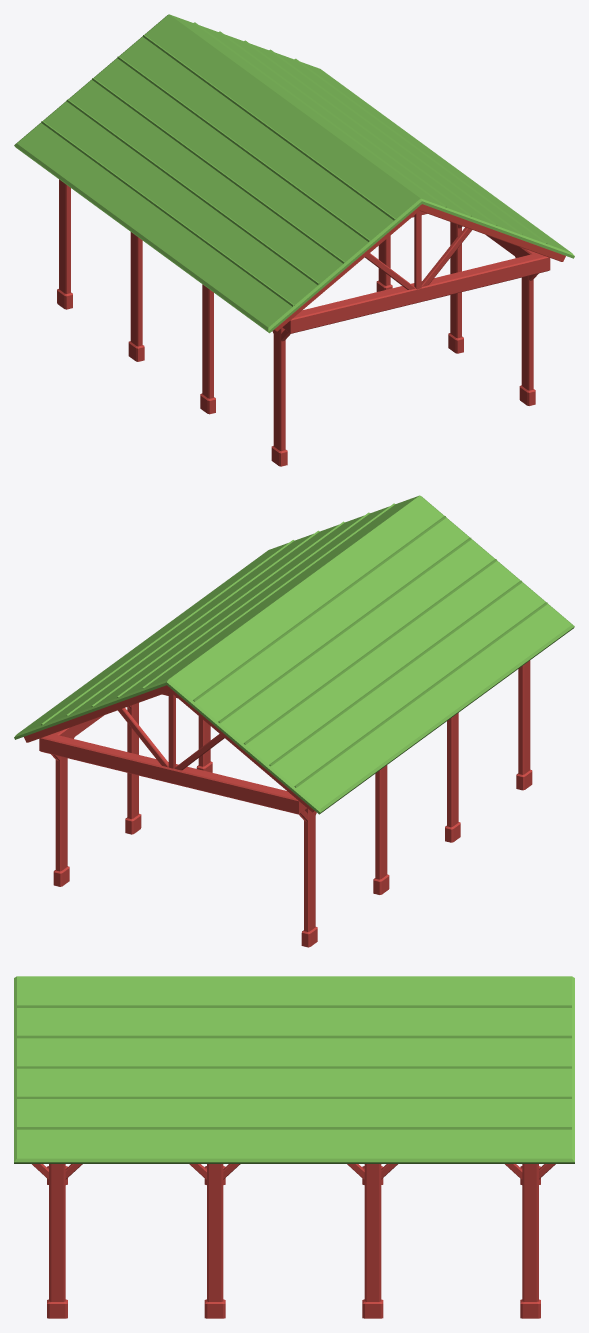
Rendered from structures_a03.gltf.
3 views of the same model, one above another, from view 1: azimuth 30°, elevation 25°; view 2: azimuth 150°, elevation 25°; view 3: azimuth 270°, elevation 25° (orthographic). The views are drawn at different scales.
Parts seen in each view (by area): view 1: structures_a03_001; view 2: structures_a03_001; view 3: structures_a03_001.
Part boxes in pixels (x1,y1,x2,y2): structures_a03_001: (14,14,574,466); structures_a03_001: (14,495,574,947); structures_a03_001: (14,976,574,1318).
Size of the model in its own units: 6.4 by 4.94 by 9.21.
Materials: 1 (1 with a texture image).
